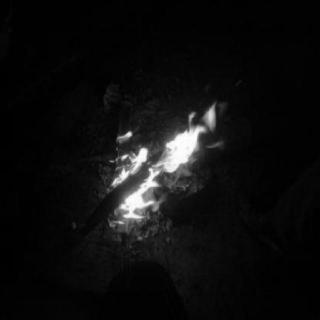Fire: (87, 72, 239, 234)
